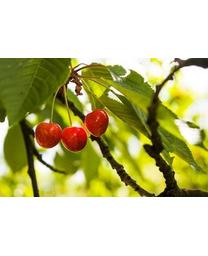cherry: (35, 122, 62, 148), (60, 127, 87, 152), (86, 109, 109, 136)
